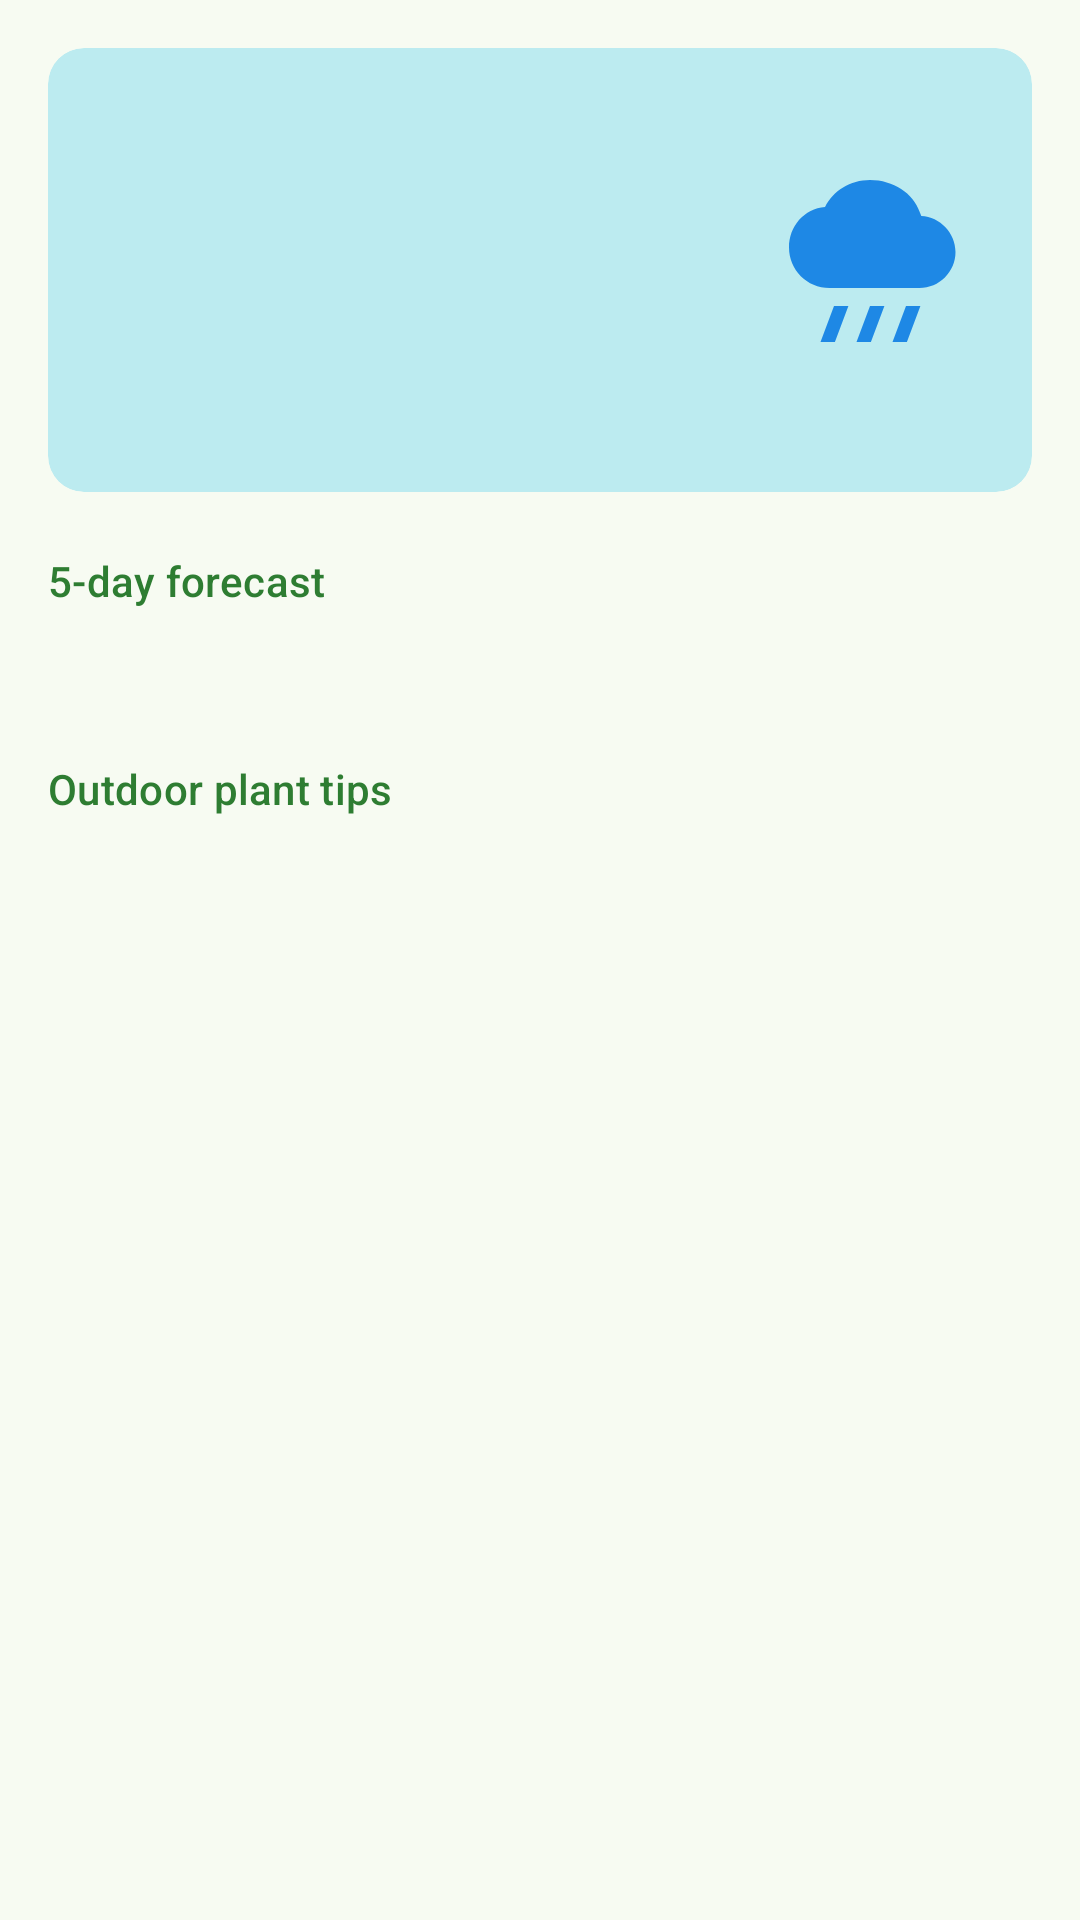

Icon click points for this 1080 x 1920 phone screenshot, format point (x, y):
weather rain: point (872, 261)
